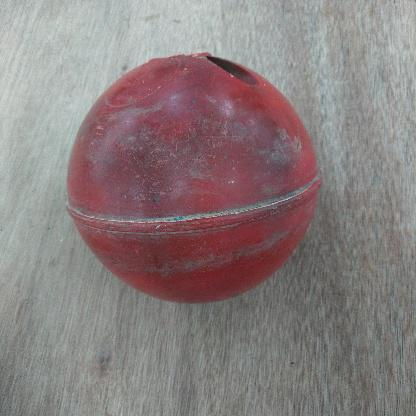red_buoy: (62, 44, 324, 318)
